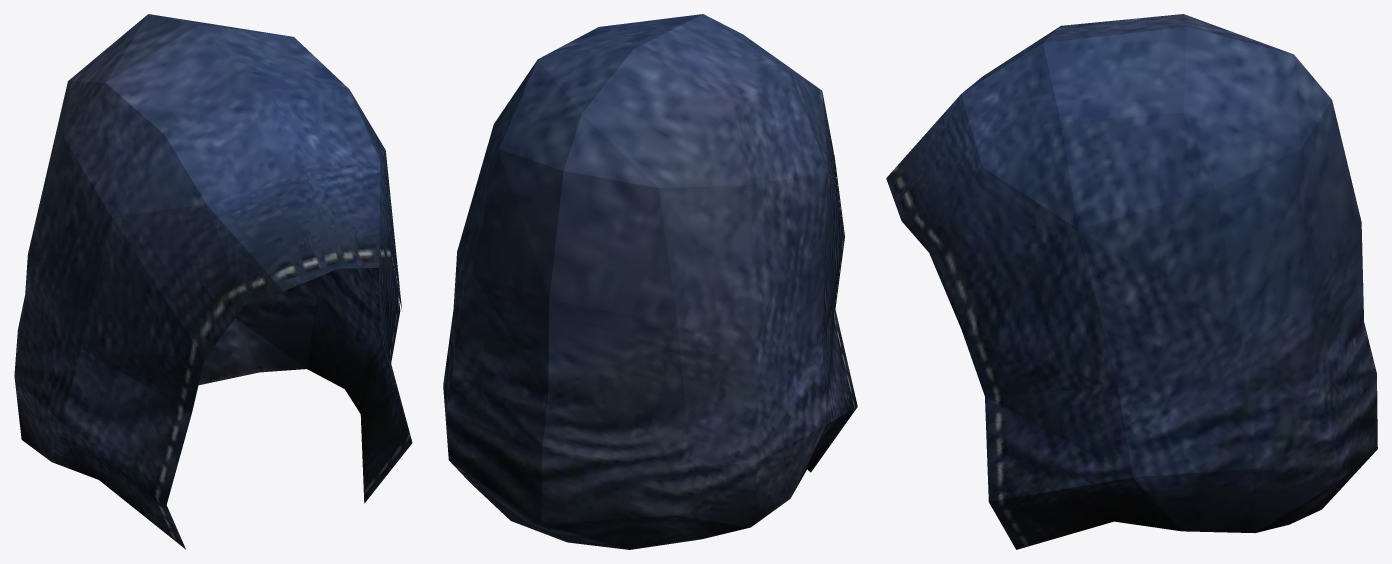
Rendered from KAPTURGILDII.glb.
3 views of the same model, side by side, from view 1: azimuth 30°, elevation 25°; view 2: azimuth 150°, elevation 25°; view 3: azimuth 270°, elevation 25° (orthographic). The views are drawn at different scales.
Parts seen in each view (by area): view 1: KAPTURGILDII; view 2: KAPTURGILDII; view 3: KAPTURGILDII.
Part boxes in pixels (x1,y1,x2,y2): KAPTURGILDII: [14, 14, 412, 549]; KAPTURGILDII: [443, 14, 857, 549]; KAPTURGILDII: [886, 14, 1377, 549].
Bounding box in the file's own units: 0.2493 × 0.3284 × 0.3066.
Materials: 1 (1 with a texture image).
